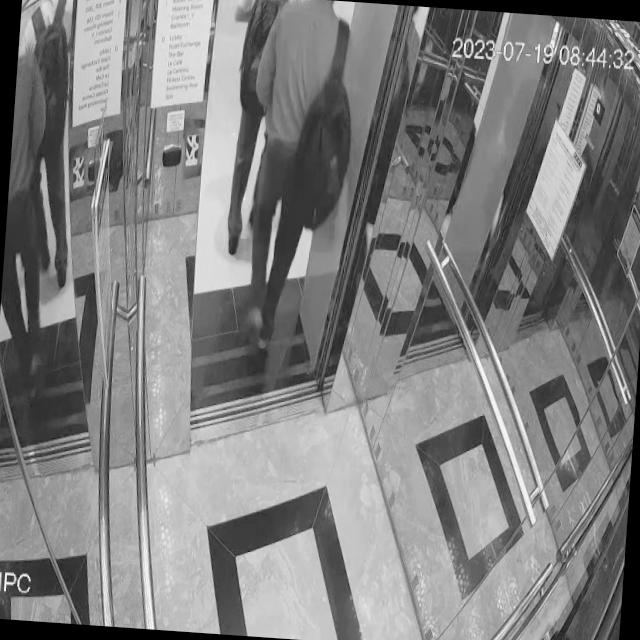person: (234, 0, 354, 361), (218, 0, 290, 260)
